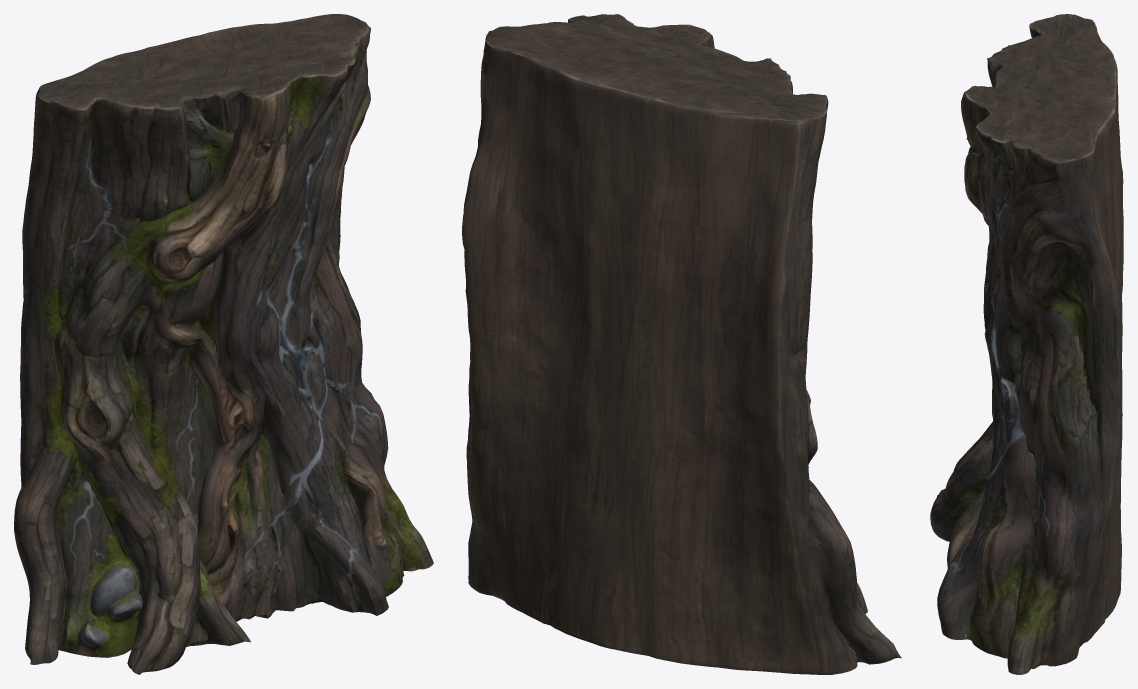
File: stormheart_root_wall_panel.glb
3 renders of one model, left to right at view 1: azimuth 30°, elevation 25°; view 2: azimuth 150°, elevation 25°; view 3: azimuth 270°, elevation 25°, orthographic. The views are drawn at different scales.
Visible parts, largest first — view 1: Mesh_0; view 2: Mesh_0; view 3: Mesh_0.
Part boxes in pixels (x1,y1,x2,y2): Mesh_0: (14,14,433,674); Mesh_0: (462,14,901,674); Mesh_0: (930,14,1123,674).
Size of the model in its own units: 1.52 by 1.9 by 0.6703.
Materials: 1 (1 with a texture image).
